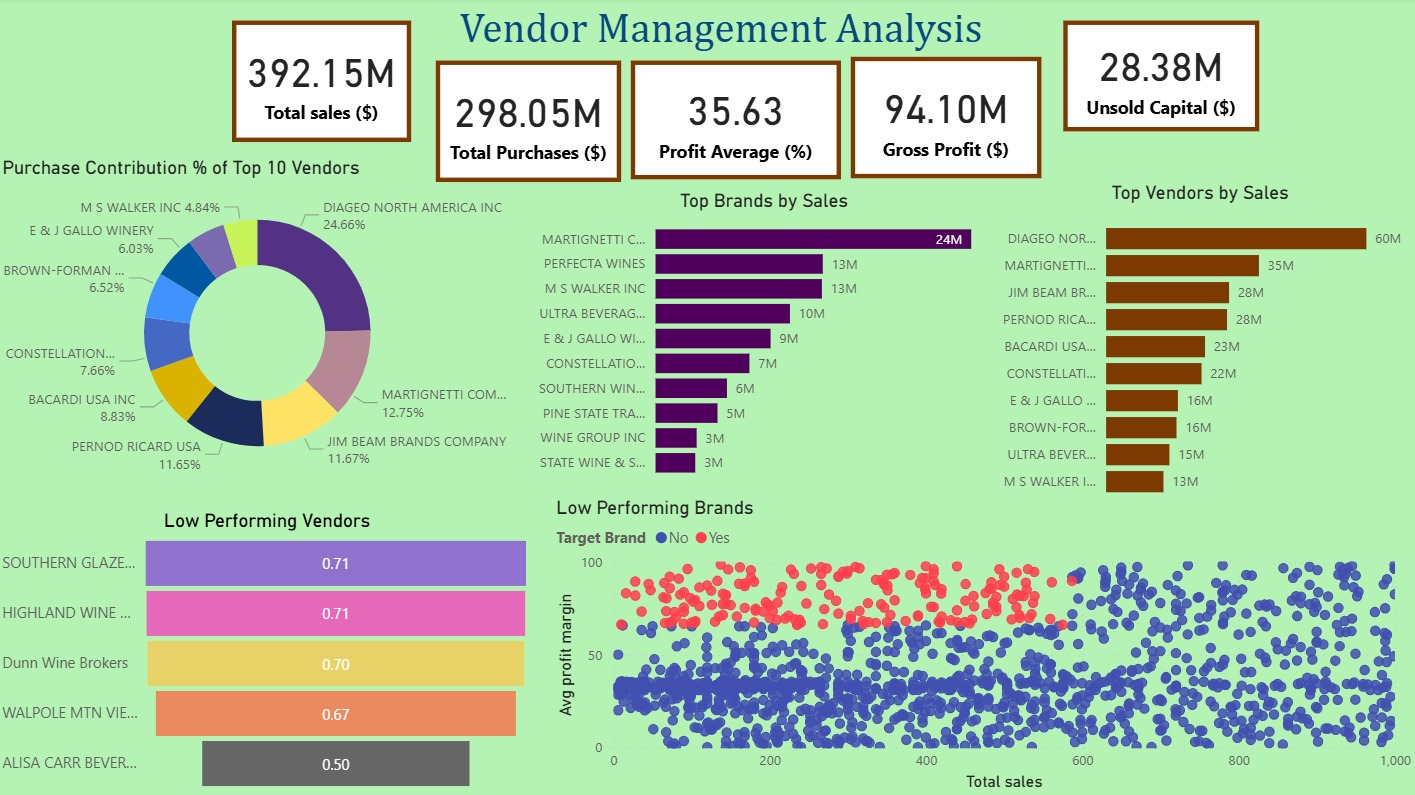

This screenshot's page, from the dashboard's own definition file:
{"tool":"powerbi","page":{"name":"Page 1","canvas":[1280,720],"ordinal":0},"visuals":[{"type":"card","fields":{"Values":["vendor_sales_summary.TotalSalesDollars"]},"box":[211.6,19.8,161.6,109.3],"z":0},{"type":"card","fields":{"Values":["vendor_sales_summary.TotalPurchaseDollars"]},"box":[395.3,55.8,167.4,109.3],"z":1000},{"type":"card","fields":{"Values":["vendor_sales_summary.GrossProfit"]},"box":[769.8,53.5,172.1,109.3],"z":2000},{"type":"card","fields":{"Values":["vendor_sales_summary.ProfitMargin"]},"box":[570.9,55.8,189.5,107],"z":3000},{"type":"card","fields":{"Values":["vendor_sales_summary.UnsoldCapital"]},"box":[961.6,19.8,176.7,100],"z":4000},{"type":"textbox","title":"Vendor Management Analysis","box":[412.8,0,508.1,58.1],"z":5000},{"type":"donutChart","title":"Purchase Contribution % of Top 10 Vendors","fields":{"Category":["PurchaseContribution.VendorName"],"Y":["PurchaseContribution.PurchaseContribution%"]},"box":[0,143,469.8,298.8],"z":6000},{"type":"barChart","title":"Top Vendors by Sales","fields":{"Category":["vendor_sales_summary.VendorName"],"Y":["vendor_sales_summary.TotalSalesDollars"]},"box":[889.3,165.7,391.1,295.3],"z":7000},{"type":"barChart","title":"Top Brands by Sales","fields":{"Category":["vendor_sales_summary.VendorName"],"Y":["vendor_sales_summary.Brand"]},"box":[469.8,172.1,443,269.8],"z":8000},{"type":"funnel","title":"Low Performing Vendors","fields":{"Category":["LowTurnoverVendor.VendorName"],"Y":["LowTurnoverVendor.AvgStockTurnover"]},"box":[0,460.5,487.2,259.3],"z":9000},{"type":"scatterChart","title":"Low Performing Brands","fields":{"Category":["BrandPerformance.Description"],"X":["BrandPerformance.TotalSales"],"Y":["BrandPerformance.AvgProfitMargin"],"Series":["BrandPerformance.TargetBrand"]},"box":[498.8,450,781.4,269.8],"z":10000}]}

Visuals, with their boxes in screenshot pixels (x1, y1, x2, y2), scaled from the page's 1280x720 canvas onto the 1415x795 screenshot:
card - vendor_sales_summary.TotalSalesDollars: bbox=(234, 22, 413, 143)
card - vendor_sales_summary.TotalPurchaseDollars: bbox=(437, 62, 622, 182)
card - vendor_sales_summary.GrossProfit: bbox=(851, 59, 1041, 180)
card - vendor_sales_summary.ProfitMargin: bbox=(631, 62, 841, 180)
card - vendor_sales_summary.UnsoldCapital: bbox=(1063, 22, 1258, 132)
"Vendor Management Analysis" textbox: bbox=(456, 0, 1018, 64)
"Purchase Contribution % of Top 10 Vendors" donutChart: bbox=(0, 158, 519, 488)
"Top Vendors by Sales" barChart: bbox=(983, 183, 1414, 509)
"Top Brands by Sales" barChart: bbox=(519, 190, 1009, 488)
"Low Performing Vendors" funnel: bbox=(0, 508, 539, 794)
"Low Performing Brands" scatterChart: bbox=(551, 497, 1414, 794)
